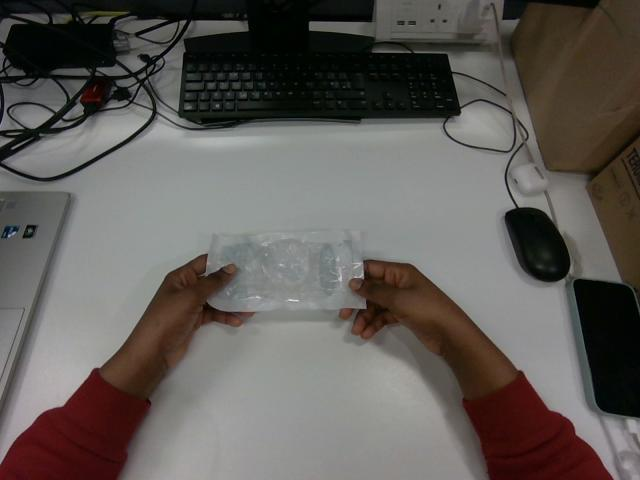gallipot: (206, 230, 365, 311)
